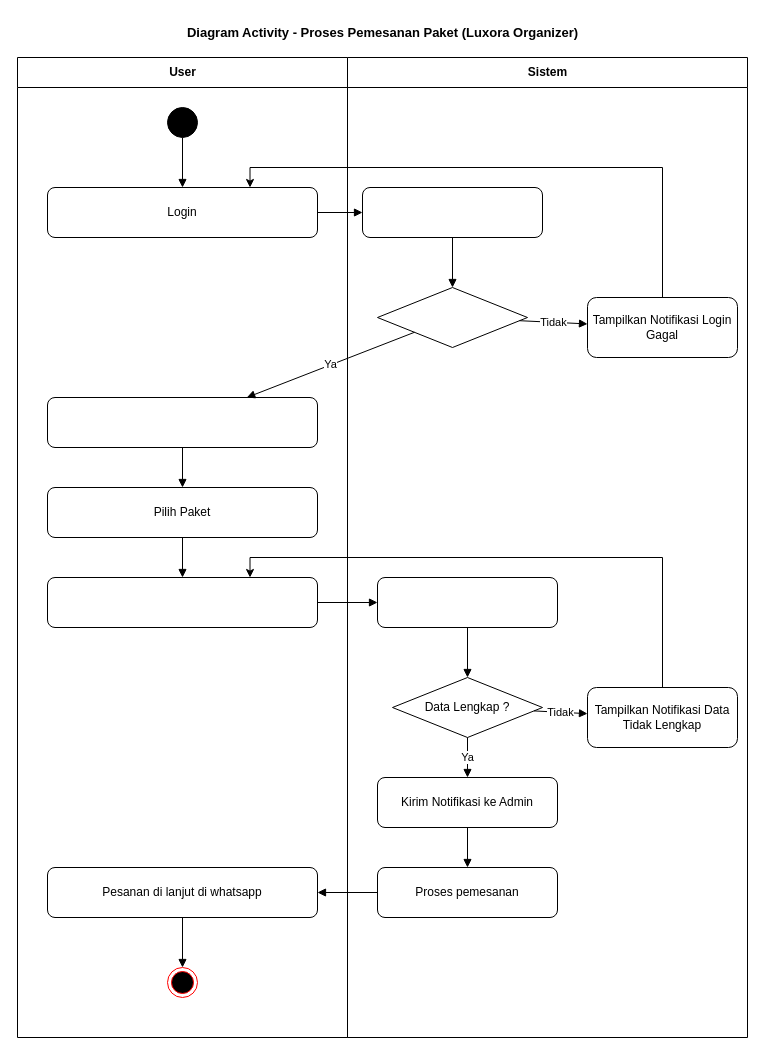
This 765x1055 diagram has some shape labels left out. Here are the shapes that lost their labels. From the top down, the centre of each, then its label:
pixel 452 212: Verifikasi Login
pixel 452 317: Valid ?
pixel 182 422: Lihat Daftar Paket
pixel 182 602: Isi Form Pemesanan
pixel 467 602: Simpan Data Pemesanan
